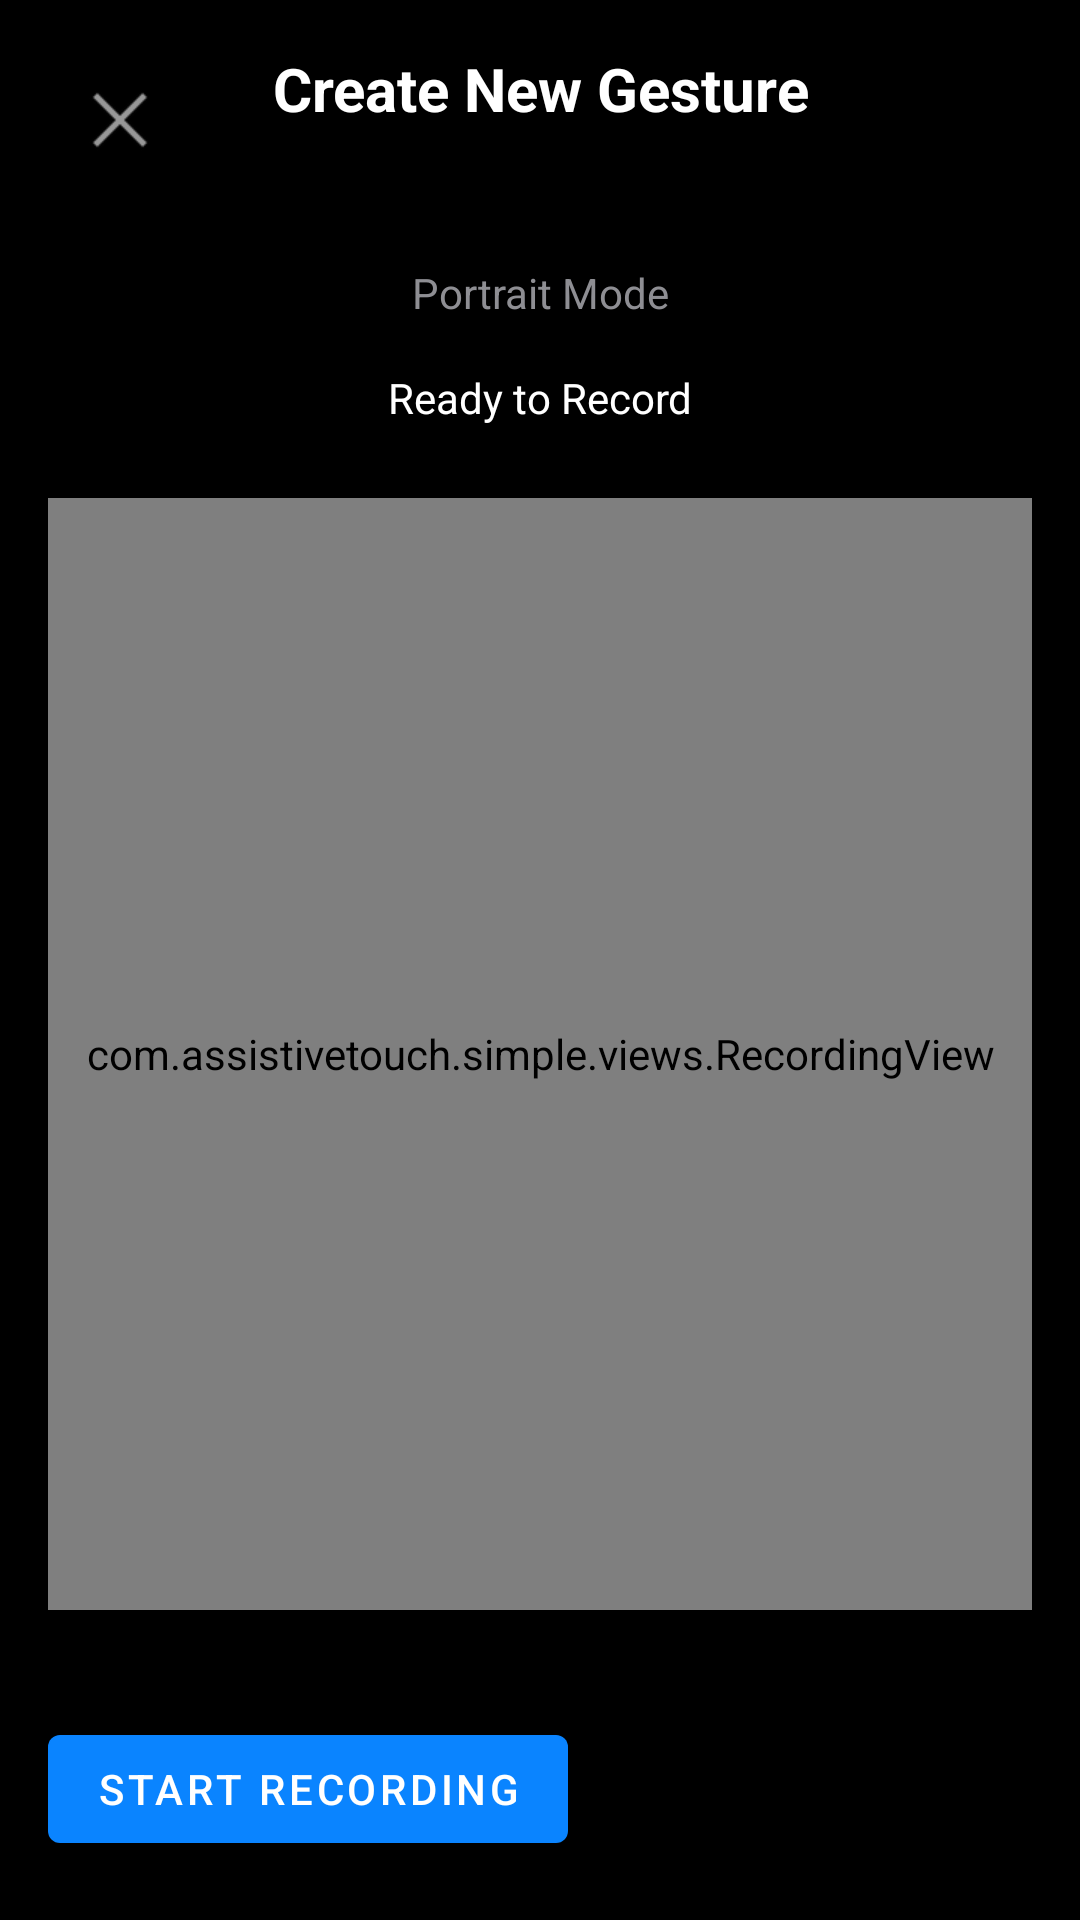

Icons on this 1080 x 1920 Android screen, each with the point to tap as (x,y):
close clear cancel: (120,120)
